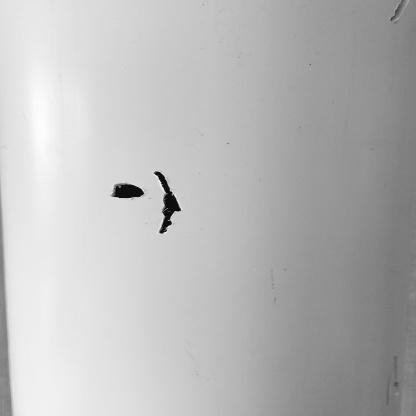kongdong: (92, 168, 152, 209), (155, 158, 184, 237)
